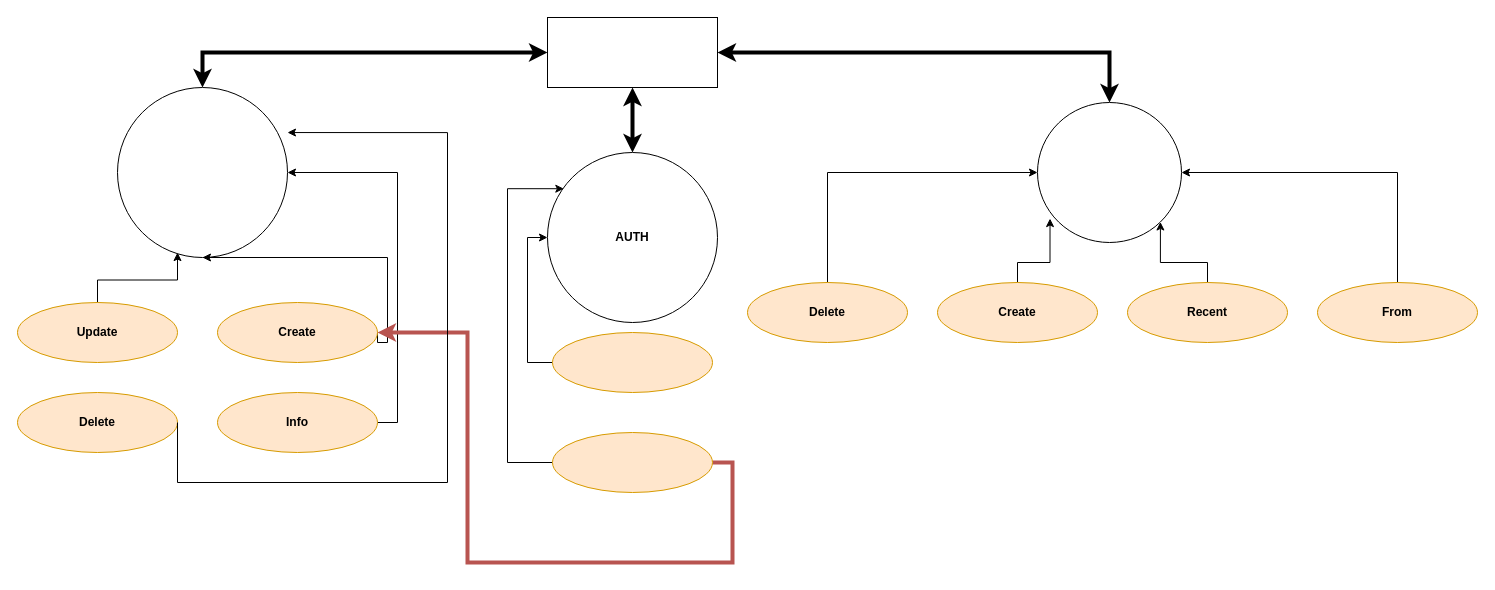
This 1495x590 diagram has some shape labels left out. Here are the shapes that lost their labels. From the top down, the centre of each, then its label:
At [632,52]: "API Gateway (Ocelot)".
At [202,172]: "USER".
At [1109,172]: "TWEET".
At [632,362]: "Login".
At [632,462]: "Register".
